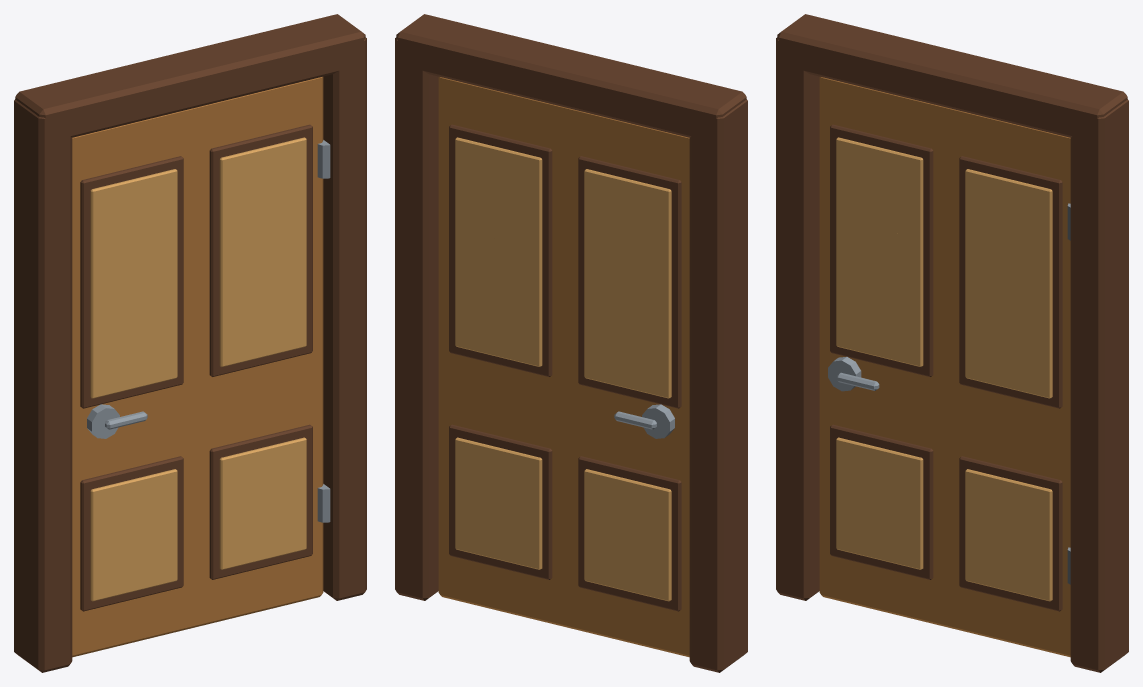
Rendered from DoorFractured.fbx.
3 views of the same model, side by side, from view 1: azimuth 30°, elevation 25°; view 2: azimuth 150°, elevation 25°; view 3: azimuth 330°, elevation 25° (orthographic).
Parts seen in each view (by area): view 1: Frame, Fragment_09, Fragment_07, Fragment_20, Fragment_04, Fragment_08, Fragment_12, Fragment_11, Fragment_14, Fragment_02, Fragment_15, Fragment_13 (+9 smaller); view 2: Frame, Fragment_09, Fragment_20, Fragment_07, Fragment_04, Fragment_08, Fragment_12, Fragment_11, Fragment_14, Fragment_02, Fragment_15, Fragment_13 (+9 smaller); view 3: Frame, Fragment_09, Fragment_07, Fragment_20, Fragment_08, Fragment_04, Fragment_12, Fragment_14, Fragment_02, Fragment_15, Fragment_11, Fragment_13 (+9 smaller).
Boxes of the visible parts, x1,y1,x2,y2 form: Frame: (14,14,366,672); Fragment_09: (161,465,241,633); Fragment_07: (111,255,179,423); Fragment_20: (257,76,323,252); Fragment_04: (72,130,137,291); Fragment_08: (105,110,183,255); Fragment_12: (171,104,237,271); Fragment_11: (177,254,236,408); Fragment_14: (217,360,276,506); Fragment_02: (72,402,132,544); Fragment_15: (230,227,293,363); Fragment_13: (216,492,301,622); Frame: (395,14,747,672); Fragment_09: (520,465,600,633); Fragment_20: (438,76,504,252); Fragment_07: (582,255,650,423); Fragment_04: (624,130,689,291); Fragment_08: (578,110,656,255); Fragment_12: (524,104,590,271); Fragment_11: (525,254,584,408); Fragment_14: (485,360,544,506); Fragment_02: (629,402,689,544); Fragment_15: (468,227,531,363); Fragment_13: (460,492,545,622); Frame: (776,14,1128,672); Fragment_09: (904,475,985,632); Fragment_07: (857,225,925,390); Fragment_20: (1000,127,1070,292); Fragment_08: (856,85,934,241); Fragment_04: (819,76,880,237); Fragment_12: (914,105,980,268); Fragment_14: (965,382,1024,527); Fragment_02: (819,354,876,505); Fragment_15: (974,255,1037,397); Fragment_11: (921,261,980,418); Fragment_13: (969,525,1054,653).
Bounding box in the file's own units: 1.45 × 2.38 × 0.265.
